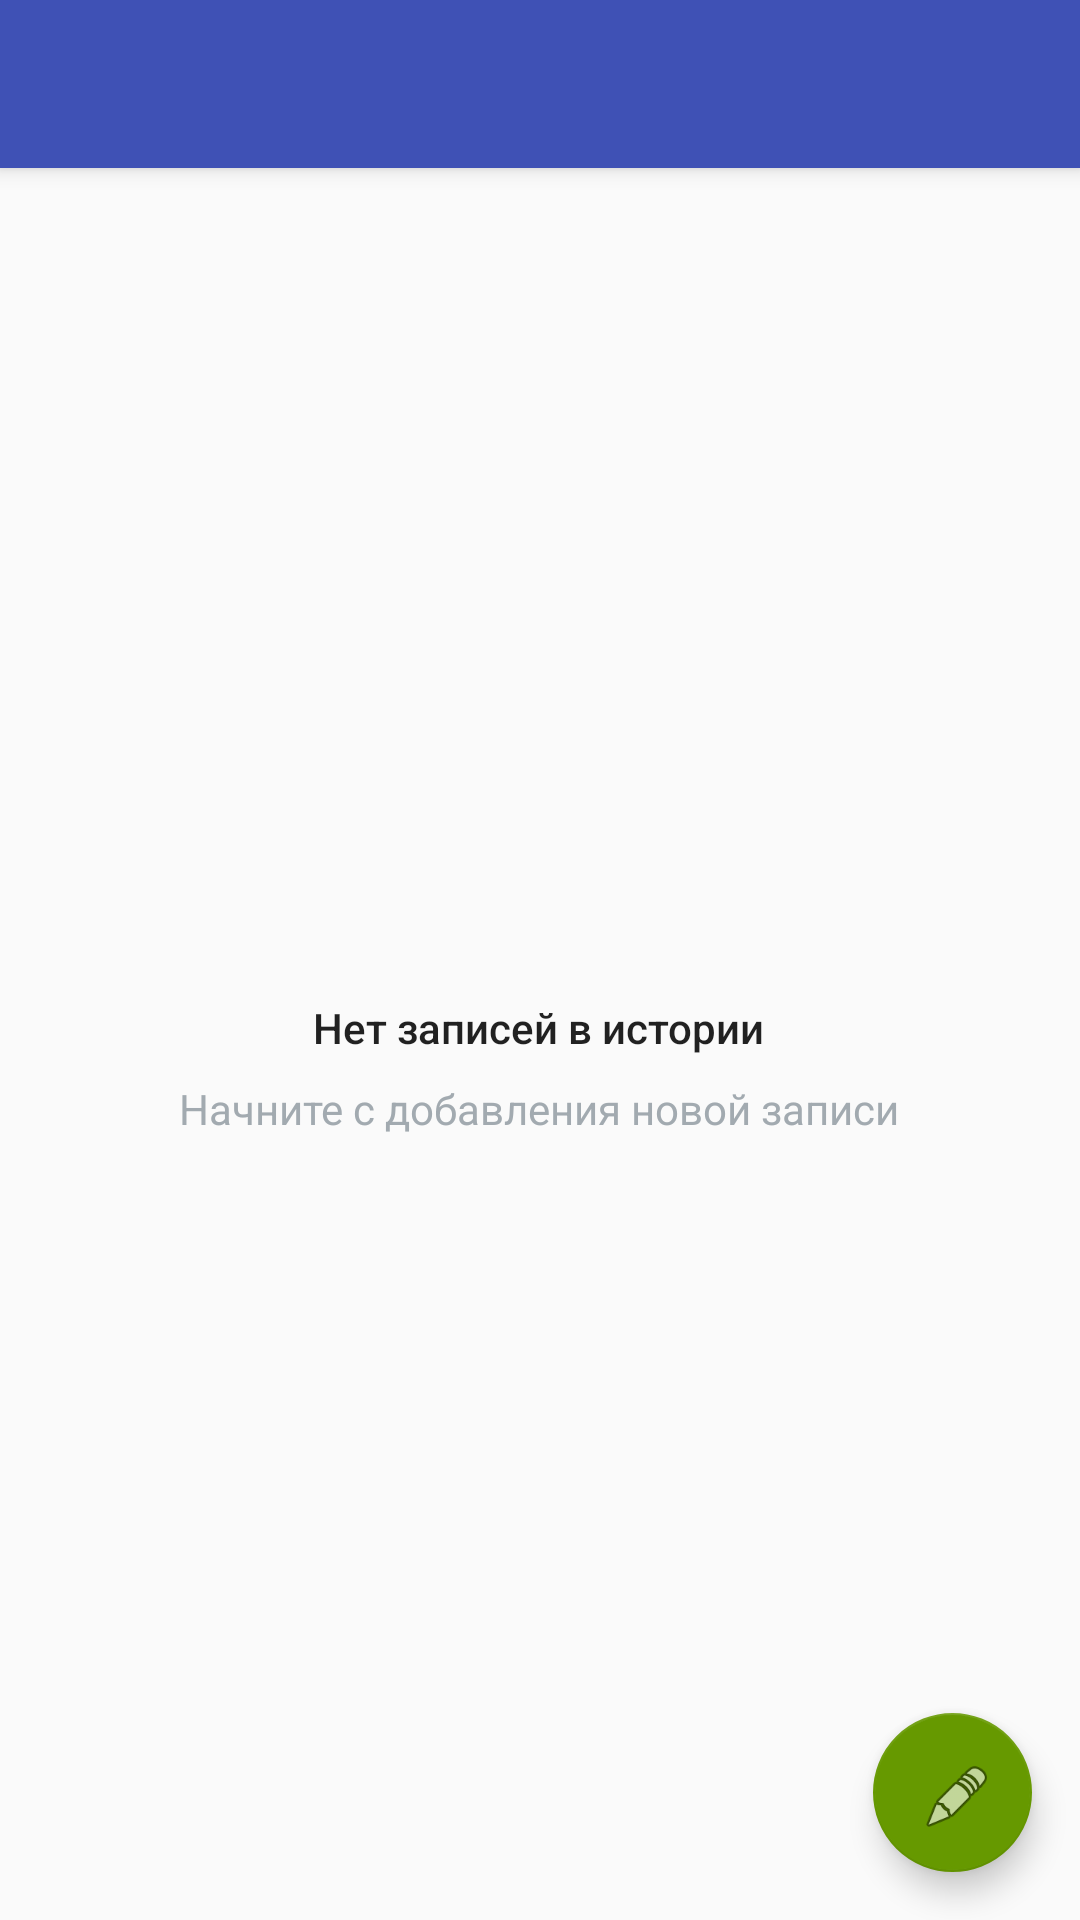

Icon click points for this 1080×1920 phone screenshot, format (x=x, y=y):
edit: (x=952, y=1792)
